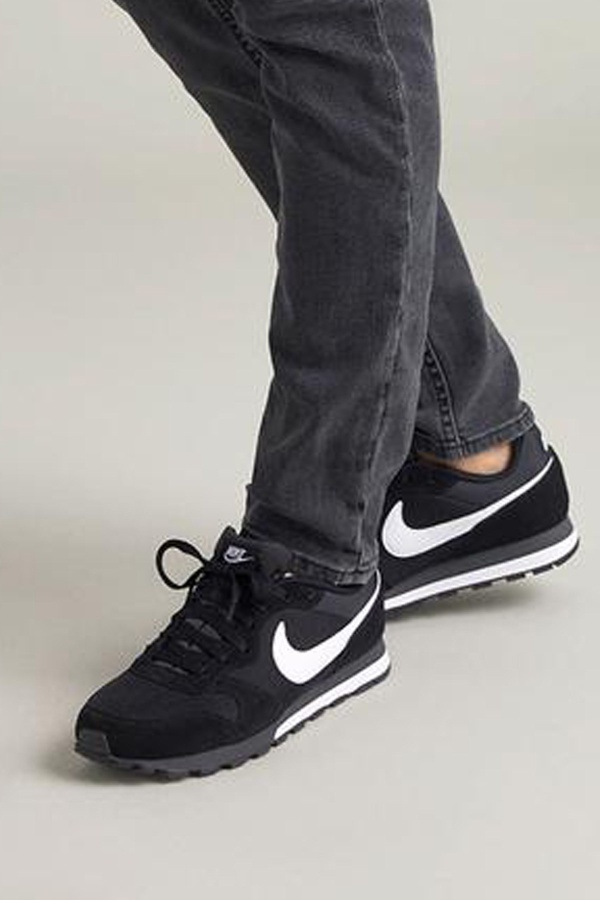nike: (266, 603, 381, 686), (377, 497, 526, 561)
